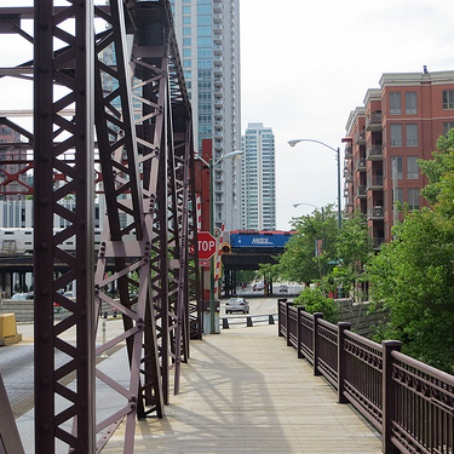building: (135, 1, 246, 232), (342, 67, 454, 291), (239, 120, 277, 238)
sign: (192, 234, 213, 259)
tree: (374, 136, 454, 371), (263, 204, 364, 301)
